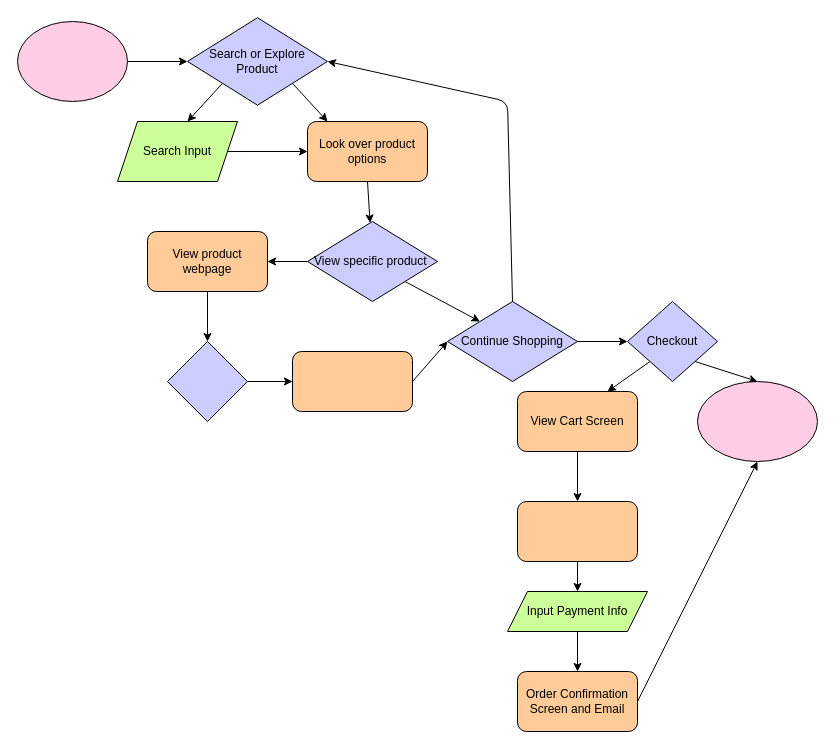
Image size: 835x749. Some labels were removed from this diagram. The centre of each missing label's shape, as x and y in pixels:
Add to Cart: (207,381)
Add to Cart Confirmation: (352,381)
Enter Website: (72,61)
Leave Website: (757,421)
View Payment: (577,531)
